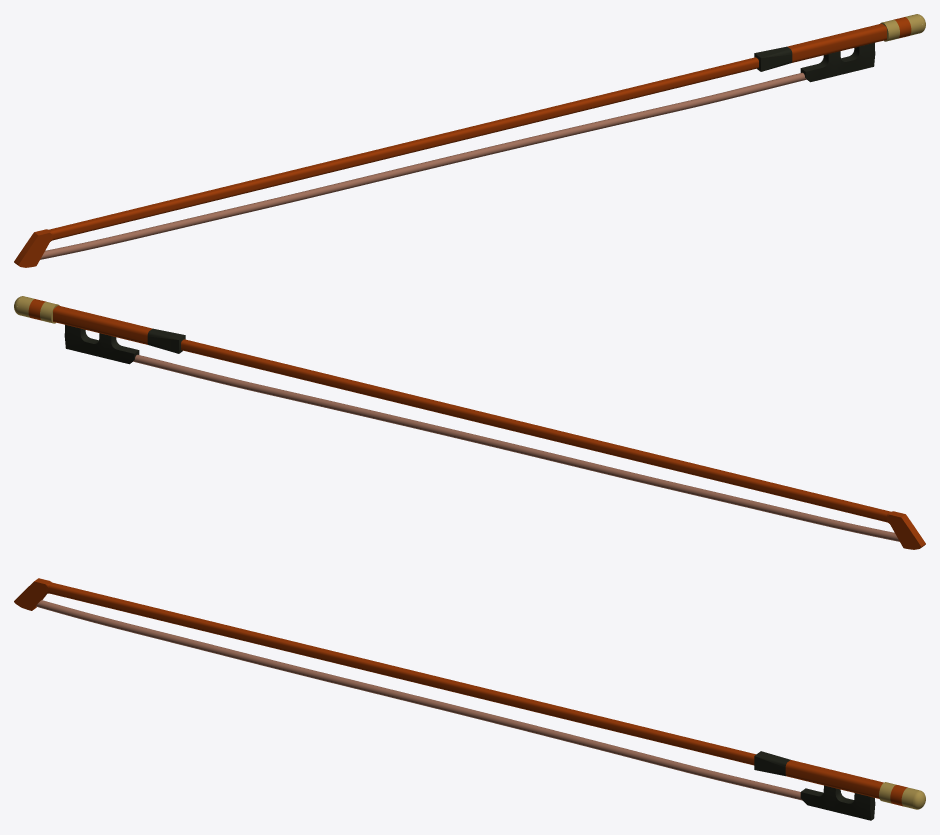
File: violinBow.glb
3 views of the same model, one above another, from view 1: azimuth 30°, elevation 25°; view 2: azimuth 150°, elevation 25°; view 3: azimuth 330°, elevation 25° (orthographic).
Visible parts, largest first — view 1: paloPrincipal, hilo, metalPalo; view 2: paloPrincipal, hilo, metalPalo; view 3: paloPrincipal, hilo, metalPalo.
Boxes of the visible parts, <box> form: paloPrincipal: <box>14,14,925,267</box>; hilo: <box>40,72,806,259</box>; metalPalo: <box>800,42,875,82</box>; paloPrincipal: <box>14,296,925,549</box>; hilo: <box>133,354,899,541</box>; metalPalo: <box>64,324,139,364</box>; paloPrincipal: <box>14,578,925,809</box>; hilo: <box>36,600,802,800</box>; metalPalo: <box>800,785,875,820</box>.
Bounding box in the file's own units: 395 × 16.53 × 7.41.
